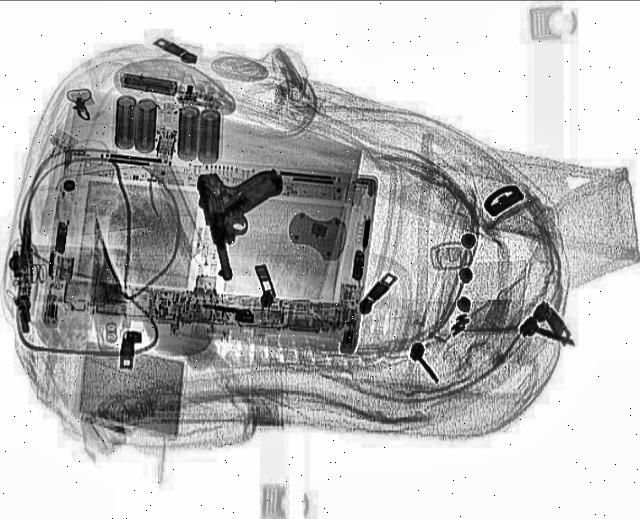Gun: (188, 163, 308, 283)
